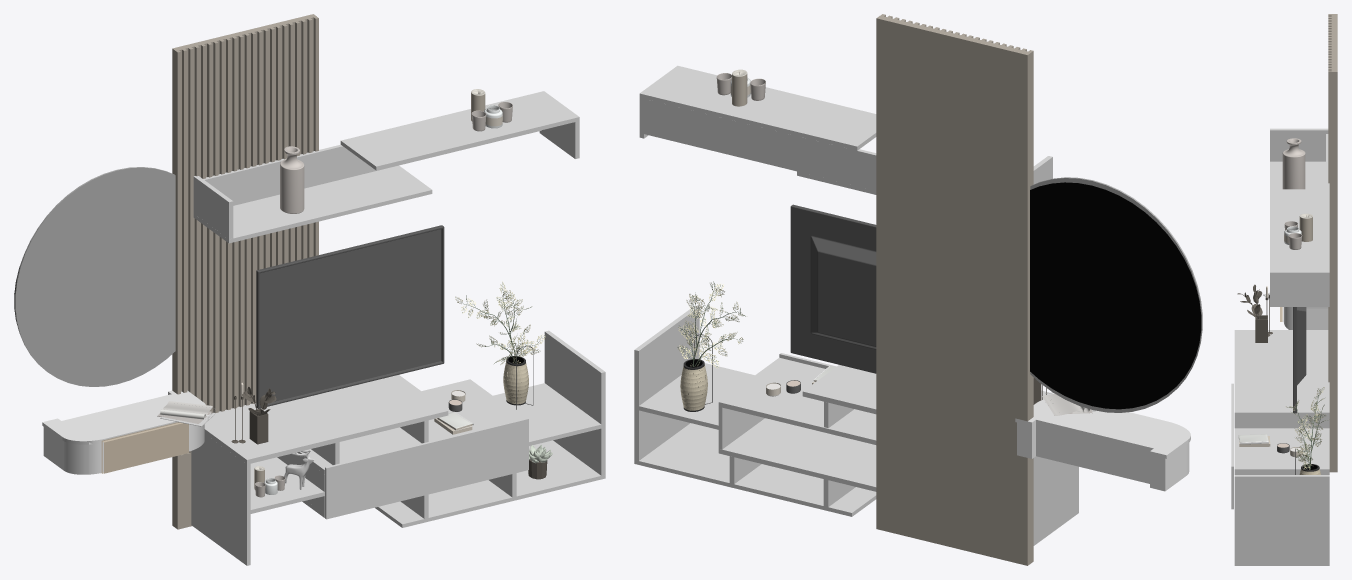
The picture shows the model from 3 angles, left to right: view 1: azimuth 30°, elevation 25°; view 2: azimuth 150°, elevation 25°; view 3: azimuth 270°, elevation 25°; orthographic projection. The views are drawn at different scales.
Parts seen in each view (by area): view 1: AlphaB2B STANDARTTVSONOMA_M_Granite_0; view 2: AlphaB2B STANDARTTVSONOMA_M_Granite_0; view 3: AlphaB2B STANDARTTVSONOMA_M_Granite_0.
Boxes of the visible parts, bbox=[...] form: AlphaB2B STANDARTTVSONOMA_M_Granite_0: bbox=[14, 14, 605, 565]; AlphaB2B STANDARTTVSONOMA_M_Granite_0: bbox=[634, 14, 1202, 565]; AlphaB2B STANDARTTVSONOMA_M_Granite_0: bbox=[1231, 14, 1337, 565].
Size of the model in its own units: 1.81 by 1.55 by 0.3725.
